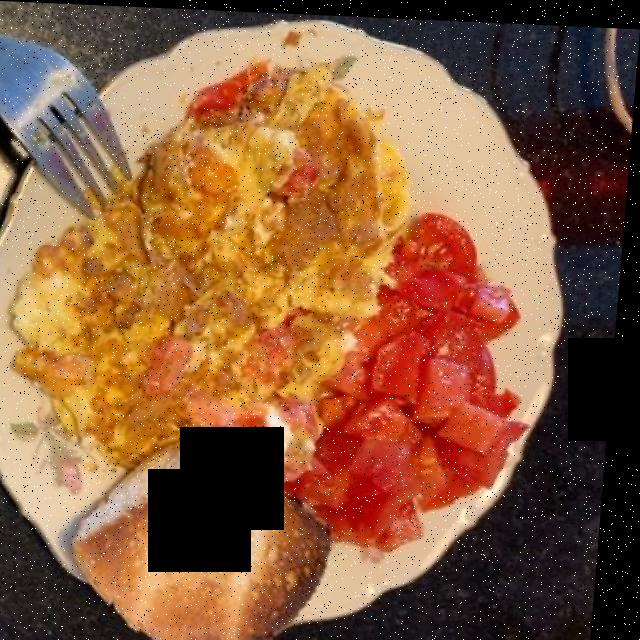bread-white: (74, 416, 338, 639)
omelette-plain: (35, 59, 403, 453)
tomato-raw: (299, 206, 526, 549)
